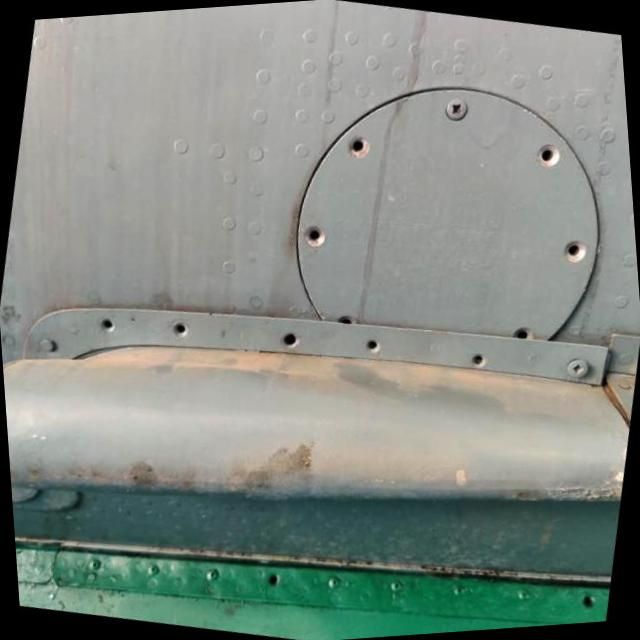Missing Fastener: (535, 142, 569, 171), (572, 587, 600, 621), (260, 566, 288, 598), (342, 131, 370, 159), (562, 240, 588, 264), (332, 311, 363, 327), (304, 226, 322, 245), (278, 332, 298, 349), (510, 324, 530, 340), (171, 322, 188, 338), (364, 338, 380, 353), (470, 354, 486, 368), (100, 318, 112, 330)
